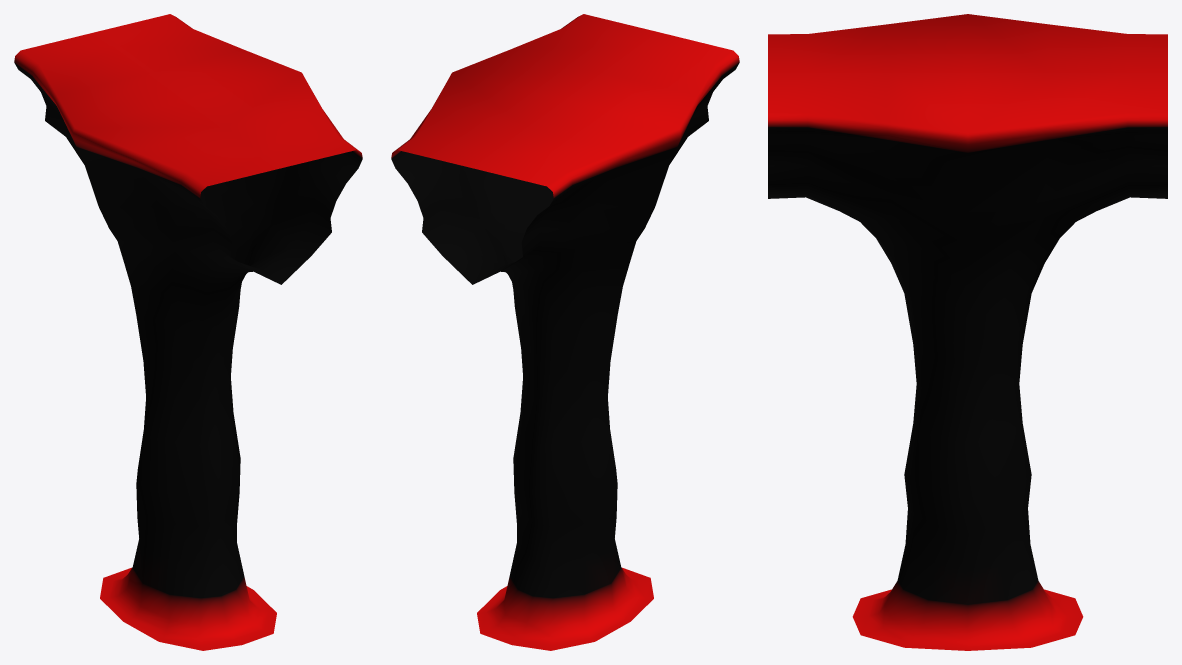
The model's file is CrossingCliff01B 3M Background.fbx.
3 renders of one model, left to right at view 1: azimuth 30°, elevation 25°; view 2: azimuth 150°, elevation 25°; view 3: azimuth 270°, elevation 25°, orthographic. The views are drawn at different scales.
Parts seen in each view (by area): view 1: CrossingCliff01B 3M Background; view 2: CrossingCliff01B 3M Background; view 3: CrossingCliff01B 3M Background.
Part boxes in pixels (bbox=[...]): CrossingCliff01B 3M Background: bbox=[14, 14, 362, 650]; CrossingCliff01B 3M Background: bbox=[391, 14, 739, 650]; CrossingCliff01B 3M Background: bbox=[768, 14, 1167, 650].
Size of the model in its own units: 1.43 by 3 by 2.
